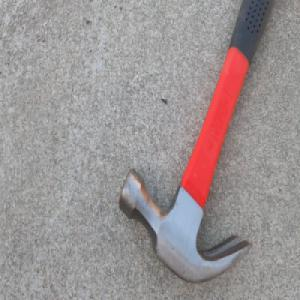Hammer: (117, 0, 275, 286)
